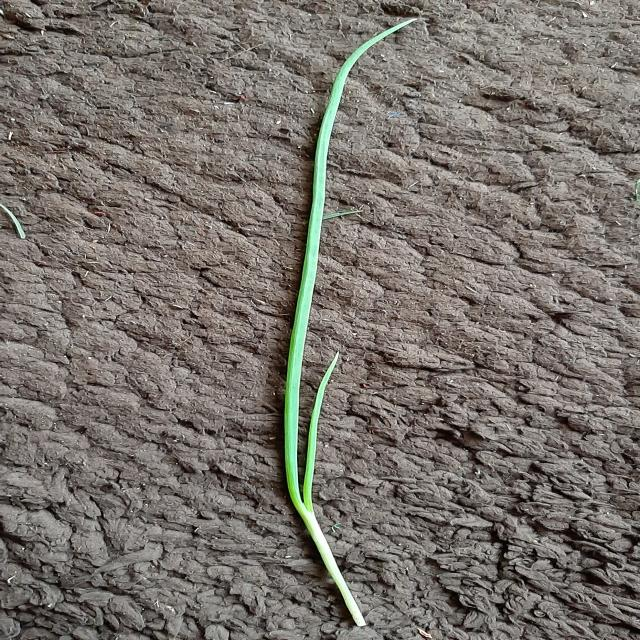onion: (282, 19, 417, 626)
